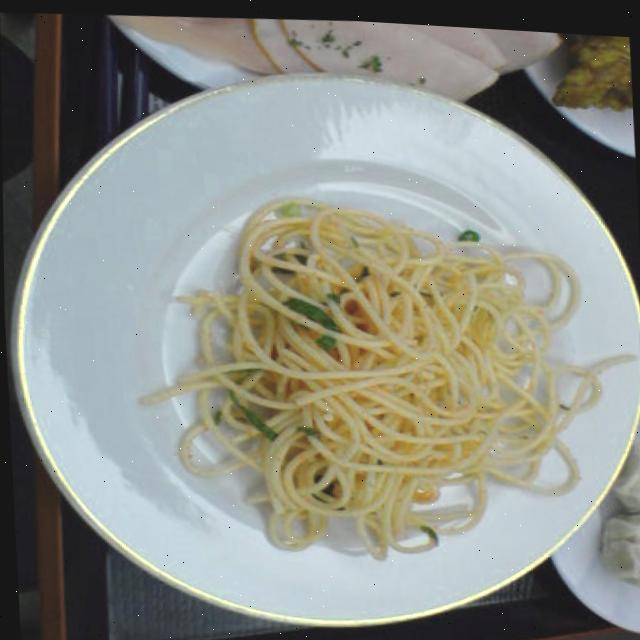带馅早点: (546, 332, 640, 637)
鸡肉料理 含炸鸡: (511, 24, 635, 158)
